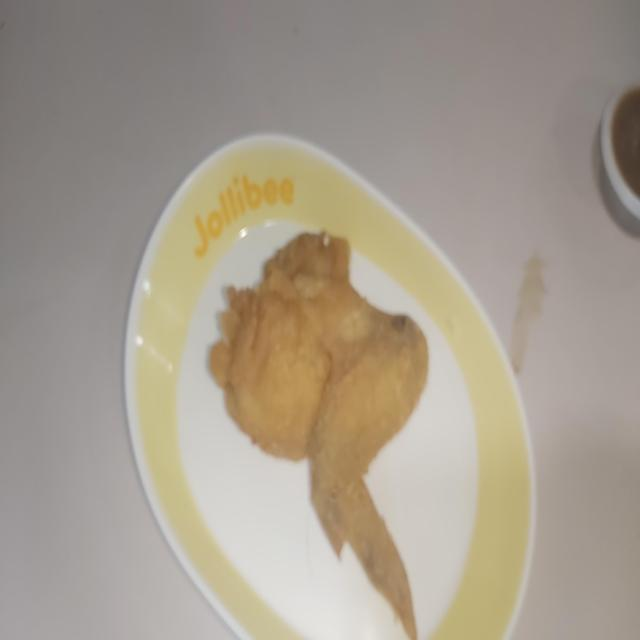Chicken -Fried Chicken-: (203, 226, 441, 640)
